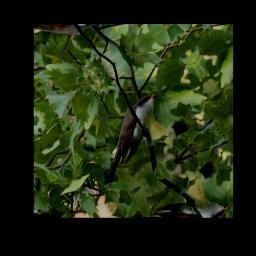Cuckoo: (77, 88, 179, 183)
